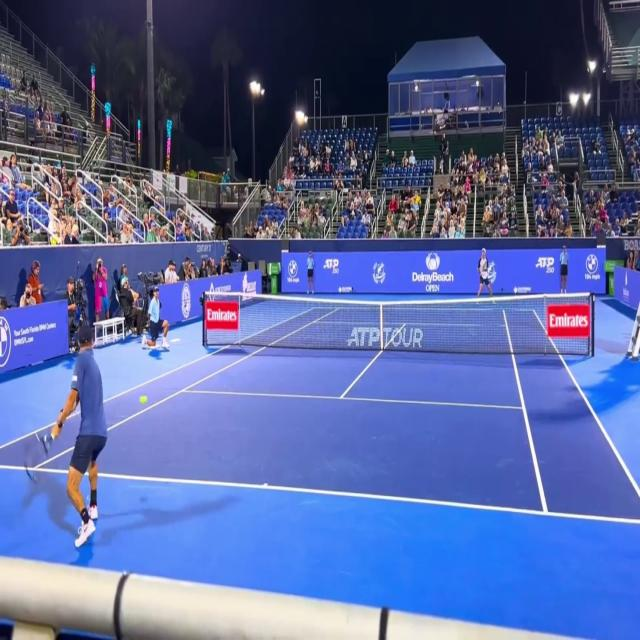tennisBall: (139, 390, 147, 410)
